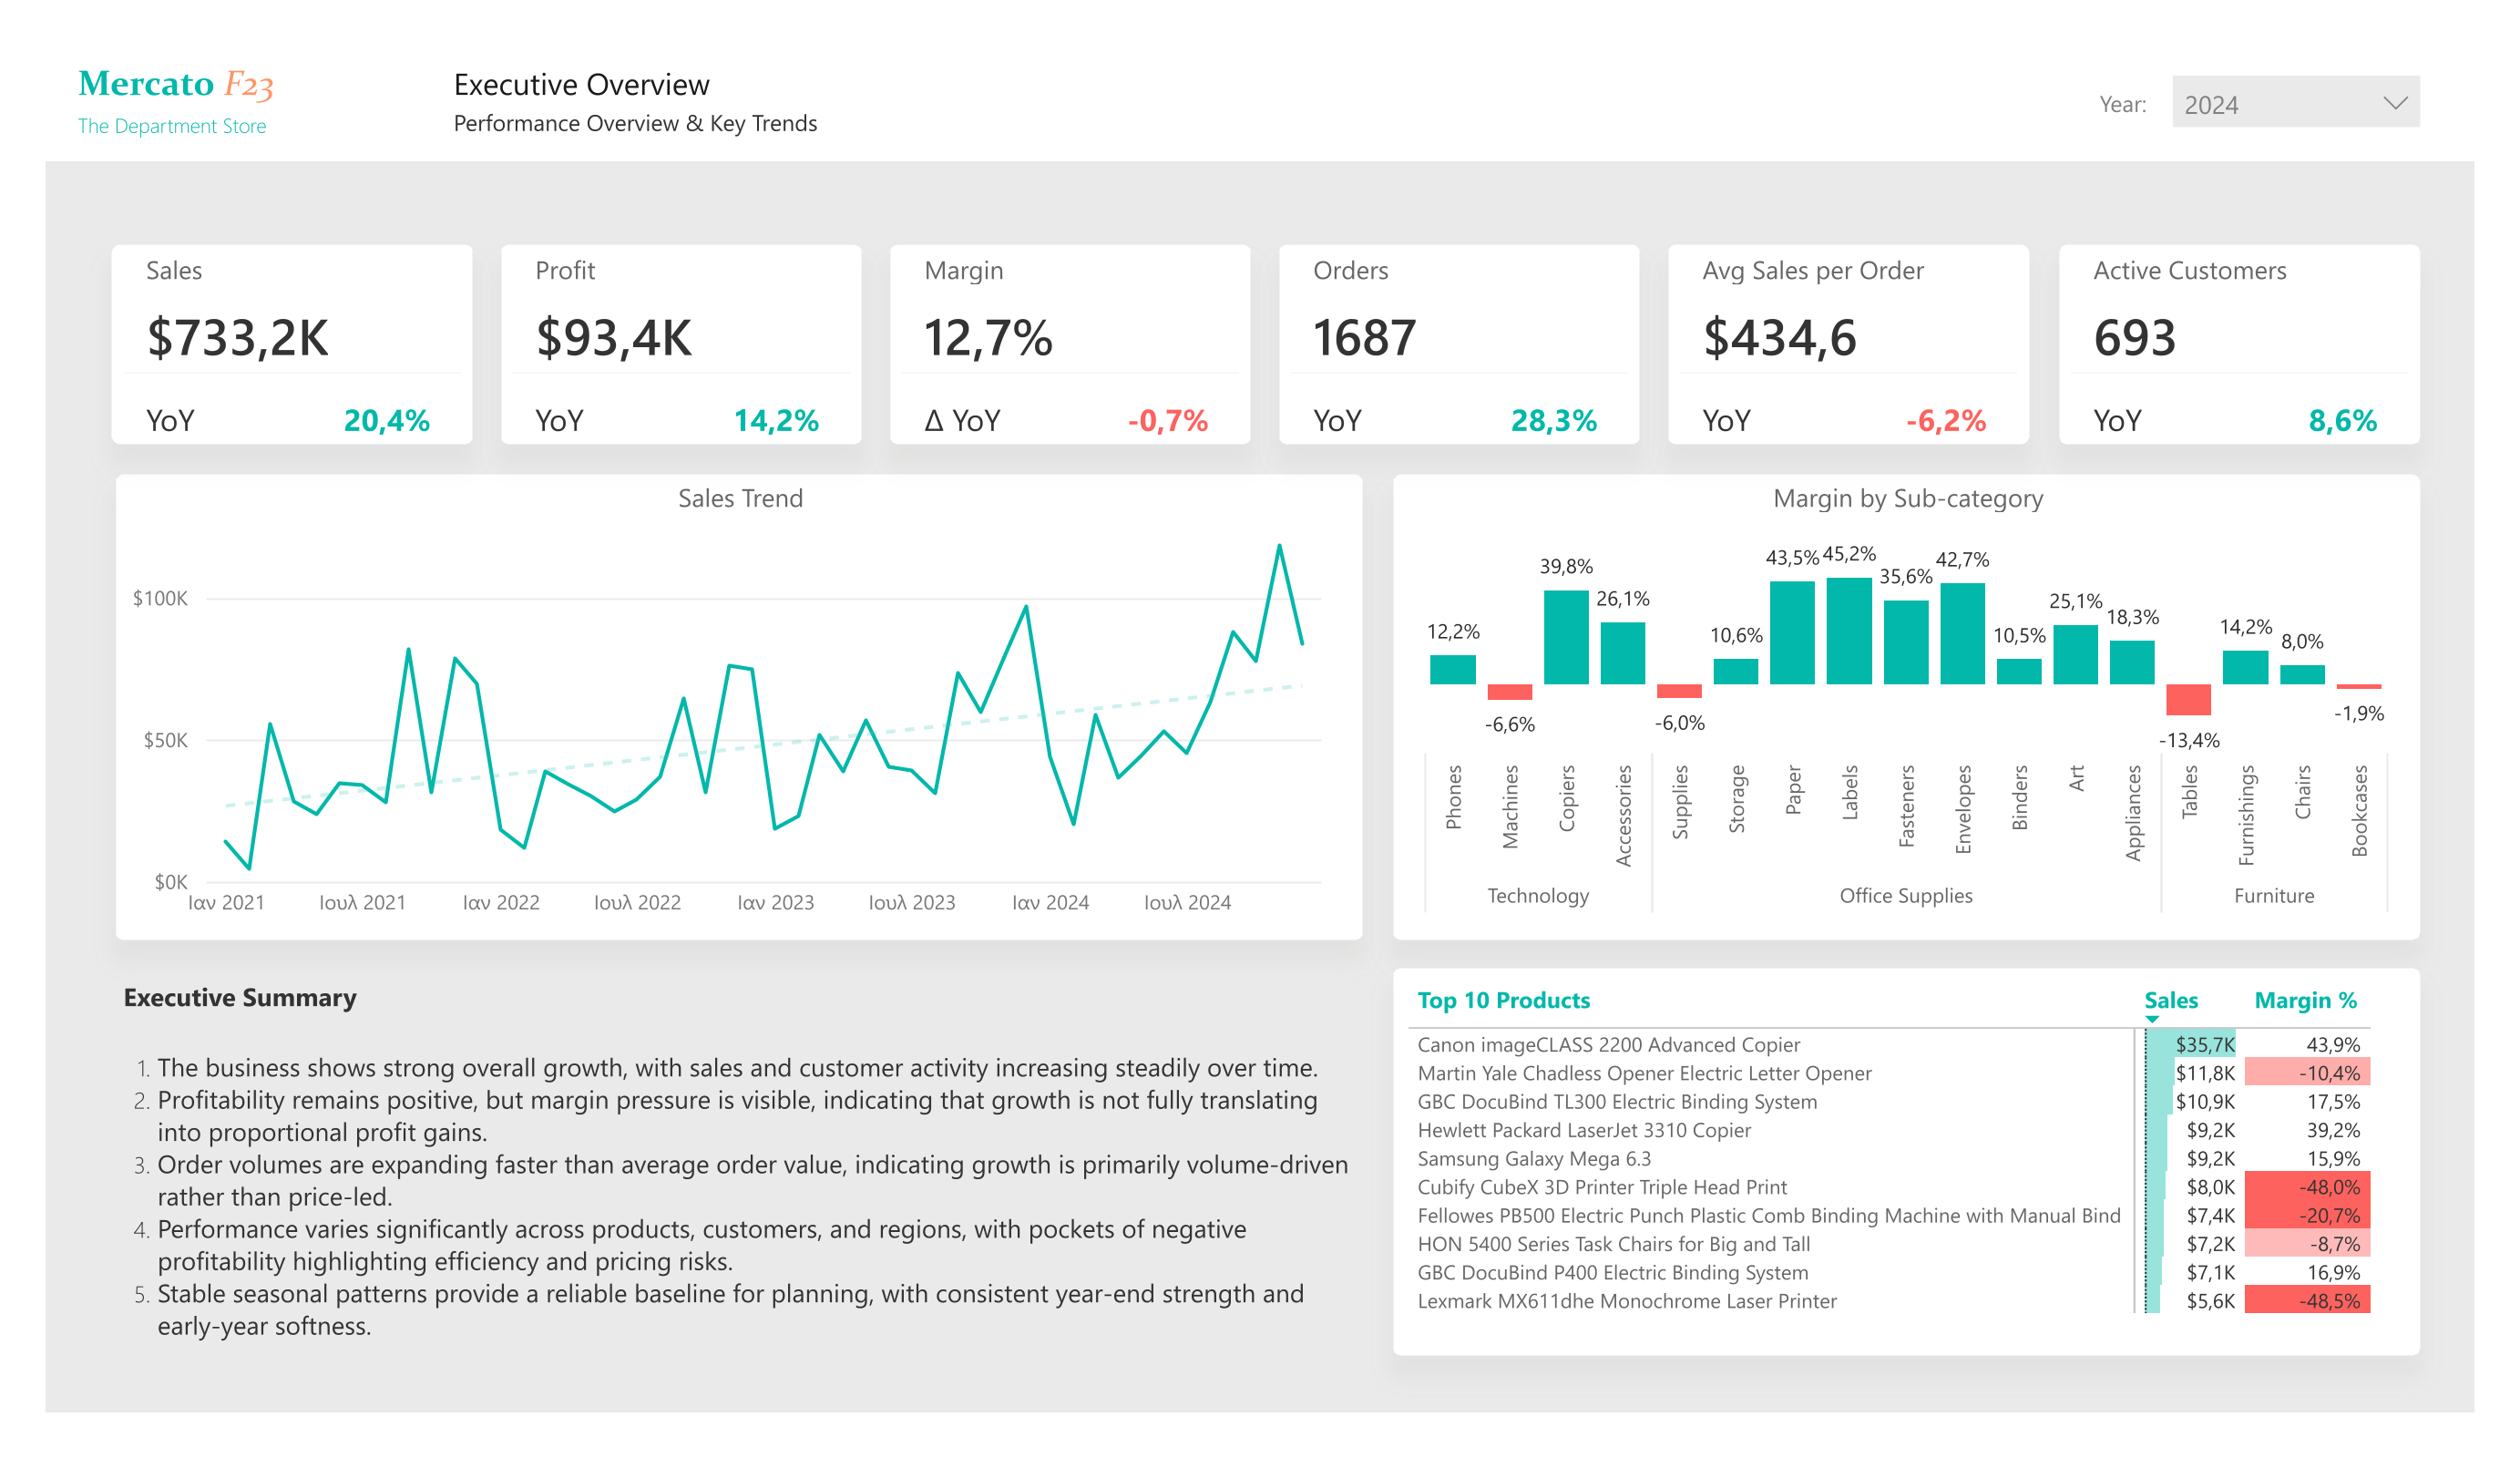

What the dashboard file says about the page in this screenshot:
{"tool":"powerbi","page":{"name":"Executive Overview","canvas":[1280,720],"ordinal":1},"visuals":[{"type":"textbox","box":[0,0,1280,61],"z":0},{"type":"lineChart","title":"Sales Trend","fields":{"Y":["Measure Table.Total Sales"],"Category":["Dim_Date.Start of Month"]},"box":[36.7,225.6,657.8,245.6],"z":1000},{"type":"clusteredColumnChart","title":"Margin by Sub-category","fields":{"Y":["Measure Table.Profit Margin %"],"Category":["Dim_Product.Category","Dim_Product.Sub-Category"]},"box":[709.9,225.9,540.9,245.5],"z":2000},{"type":"pivotTable","title":"Orders by Category","fields":{"Values":["Measure Table.Total Sales","Measure Table.Profit Margin %"],"Rows":["Dim_Product.Product Name"]},"box":[709.7,485.5,541.3,204.4],"z":3000},{"type":"cardVisual","fields":{"Data":["Measure Table.Total Sales"]},"box":[35.5,104.9,190,105],"z":4000},{"type":"cardVisual","fields":{"Data":["Measure Table.Total Profit"]},"box":[240.5,104.9,190,105],"z":5000},{"type":"cardVisual","fields":{"Data":["Measure Table.Profit Margin %"]},"box":[445.5,104.9,190,105],"z":6000},{"type":"cardVisual","fields":{"Data":["Measure Table.Total Orders"]},"box":[650.5,104.9,190,105],"z":7000},{"type":"cardVisual","fields":{"Data":["Measure Table.Avg Sales per Order"]},"box":[855.5,104.5,190,105],"z":8000},{"type":"textbox","box":[36,485.5,665,204.4],"z":9000},{"type":"cardVisual","fields":{"Data":["Measure Table.Active Customers"]},"box":[1060.9,104.5,190,105],"z":10000},{"type":"textbox","box":[210,4,425.5,50],"z":12000},{"type":"textbox","box":[12.2,3,133.3,54],"z":13000},{"type":"slicer","fields":{"Values":["Dim_Date.Year"]},"box":[1110.9,6.3,150,45.5],"z":14000},{"type":"textbox","box":[1016.2,15.2,95.3,37],"z":15000}]}

Visuals, with their boxes in screenshot pixels (x1, y1, x2, y2):
textbox: detection(46, 46, 2474, 161)
"Sales Trend" lineChart: detection(115, 474, 1364, 940)
"Margin by Sub-category" clusteredColumnChart: detection(1393, 475, 2419, 940)
"Orders by Category" pivotTable: detection(1392, 967, 2420, 1355)
cardVisual - Measure Table.Total Sales: detection(113, 245, 474, 444)
cardVisual - Measure Table.Total Profit: detection(502, 245, 863, 444)
cardVisual - Measure Table.Profit Margin %: detection(891, 245, 1252, 444)
cardVisual - Measure Table.Total Orders: detection(1280, 245, 1641, 444)
cardVisual - Measure Table.Avg Sales per Order: detection(1669, 244, 2030, 443)
textbox: detection(114, 967, 1376, 1355)
cardVisual - Measure Table.Active Customers: detection(2059, 244, 2419, 443)
textbox: detection(444, 53, 1252, 148)
textbox: detection(68, 51, 322, 154)
slicer - Dim_Date.Year: detection(2154, 57, 2438, 144)
textbox: detection(1974, 75, 2155, 145)
